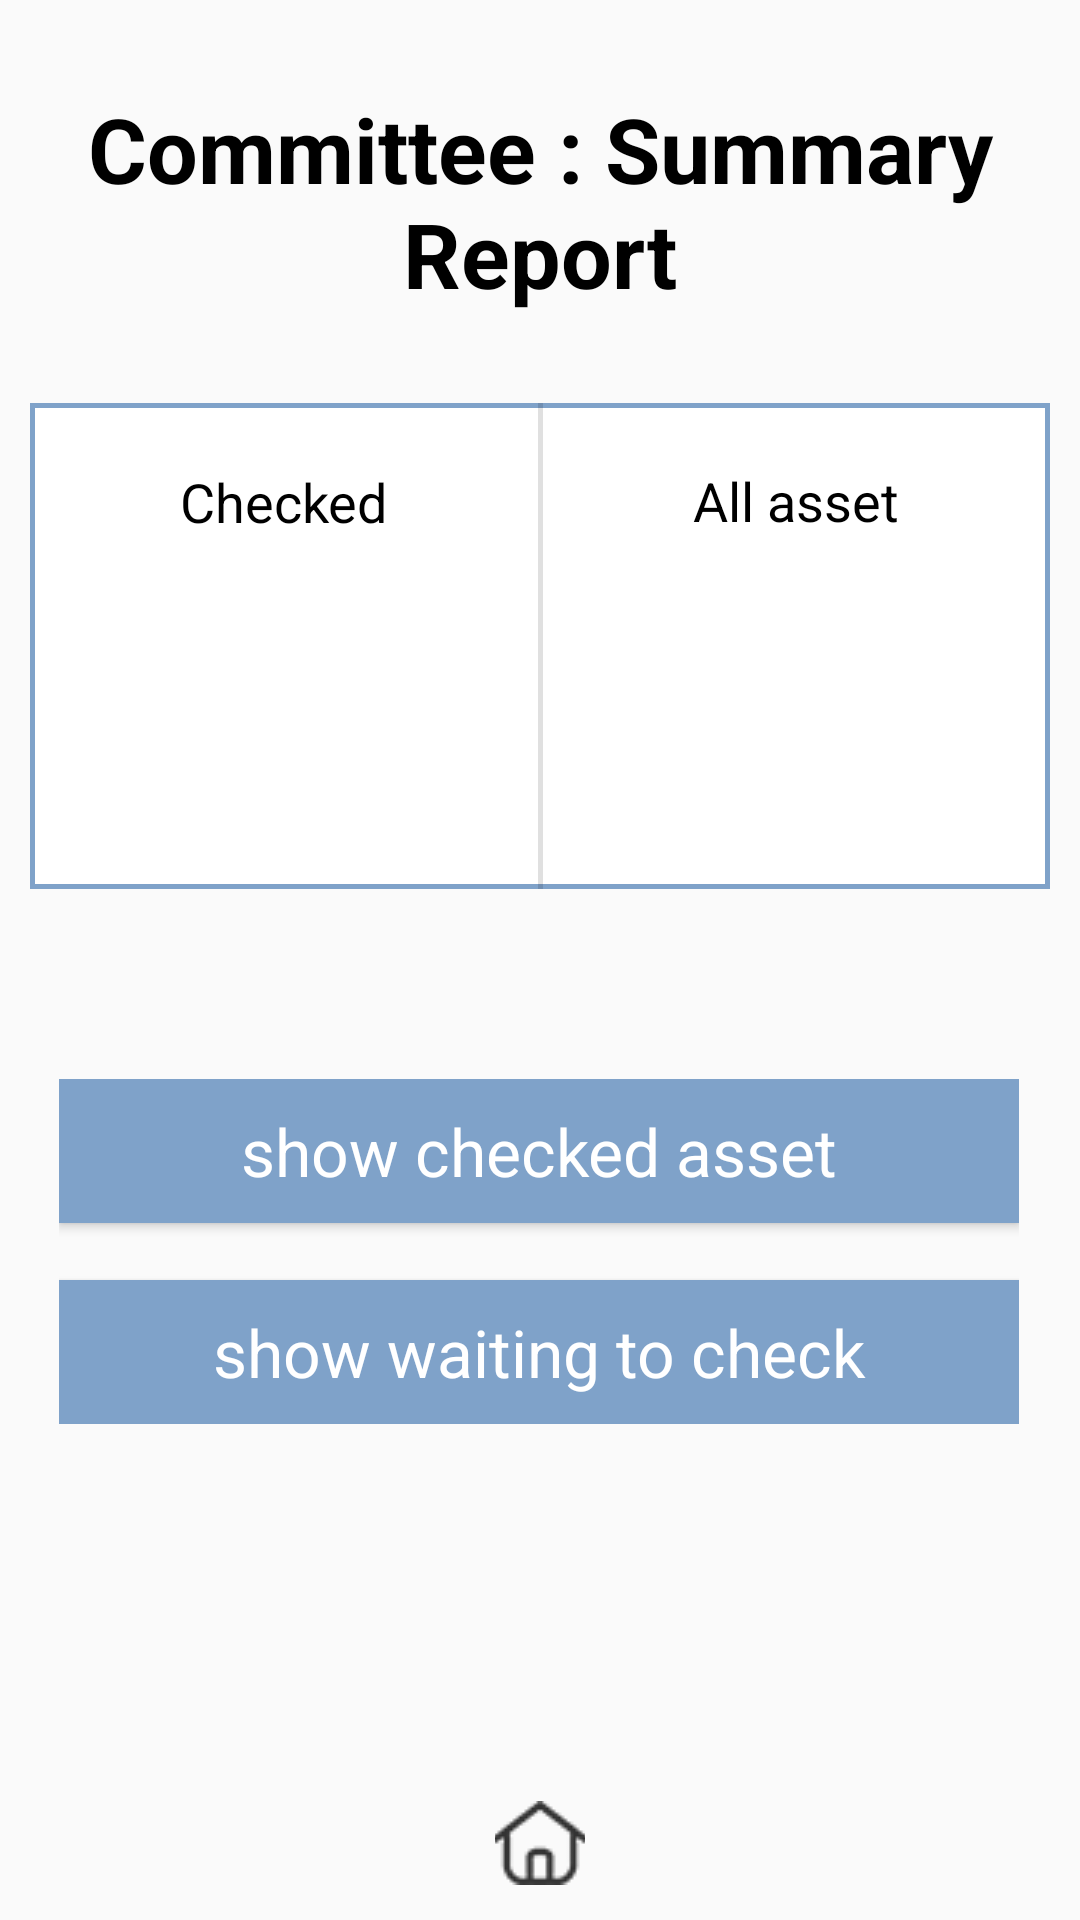

Screen size 1080×1920. Icon name, then its box in pixels as {"left": x1, "top": y1, "right": x2, "bottom": y2}:
home: {"left": 495, "top": 1801, "right": 585, "bottom": 1885}
